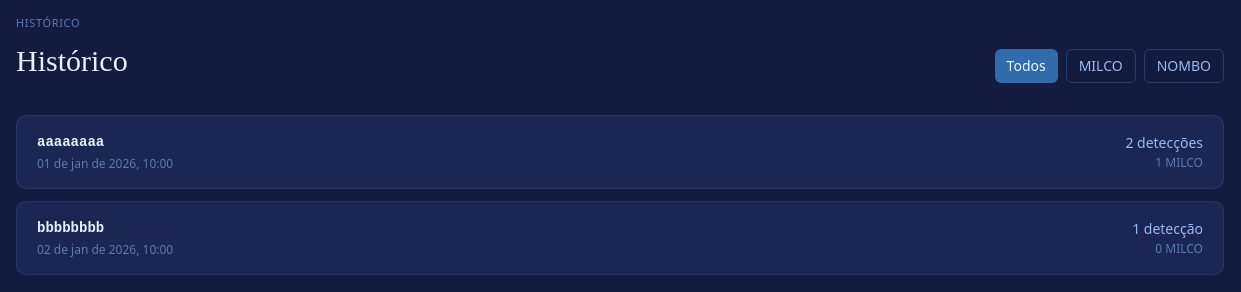
Test: HistoricoPage › filters to analyses with MILCO detections
Expected: the text "aaaaaaaa" is shown, [37, 134, 104, 150]
Click the button "MILCO" at {"x": 1101, "y": 66}, box [1066, 48, 1136, 82]
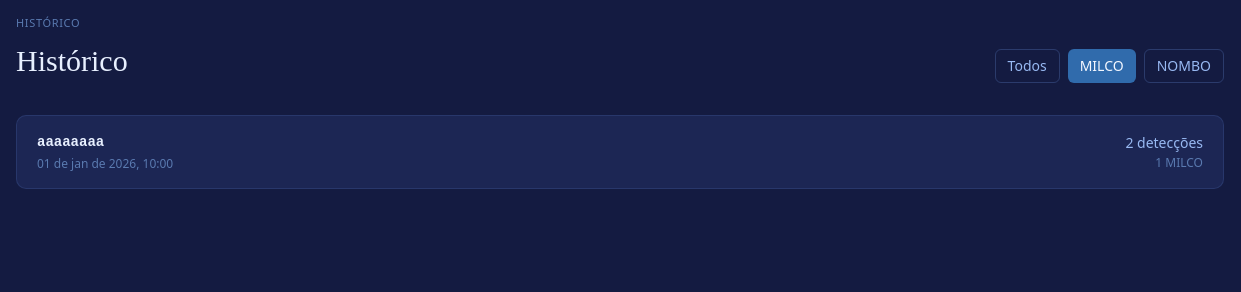
Expected: the text "aaaaaaaa" is shown, [37, 134, 104, 150]
Result: the button "bbbbbbbb" is gone
